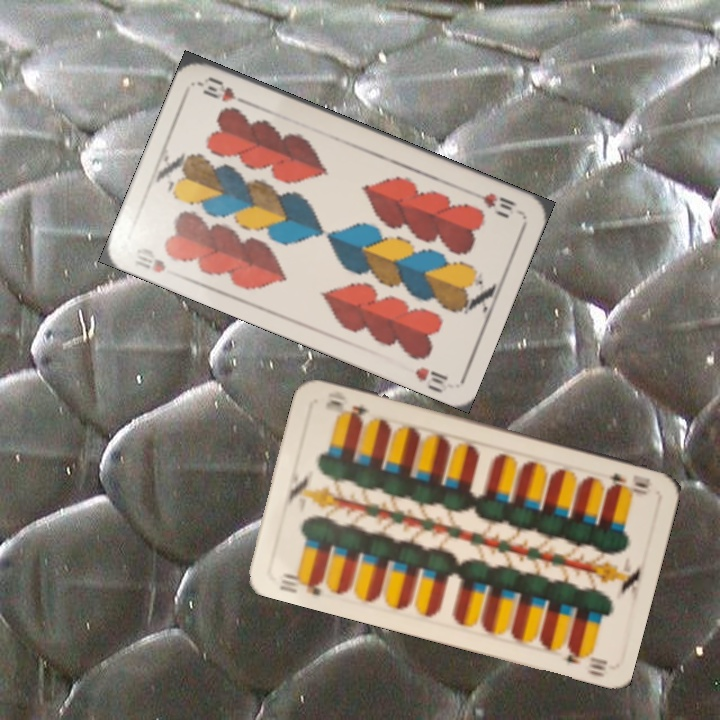E10: (275, 568, 326, 598), (604, 469, 656, 498)
H10: (466, 187, 520, 213), (130, 254, 169, 276)
